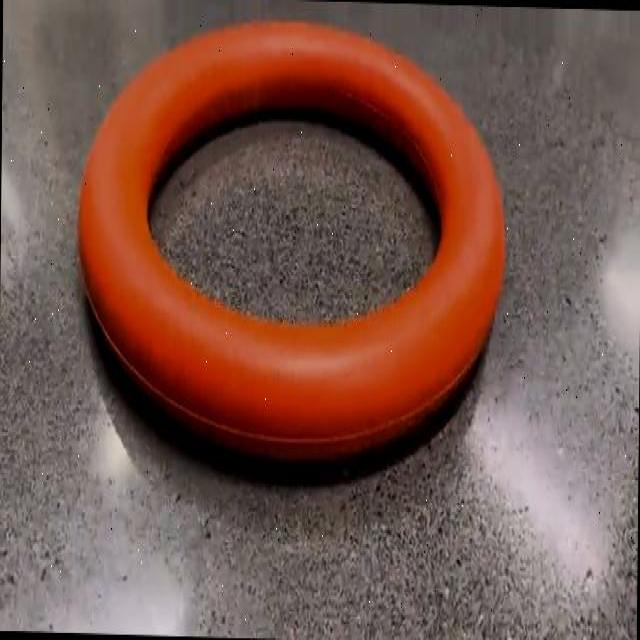note: (78, 21, 505, 459)
